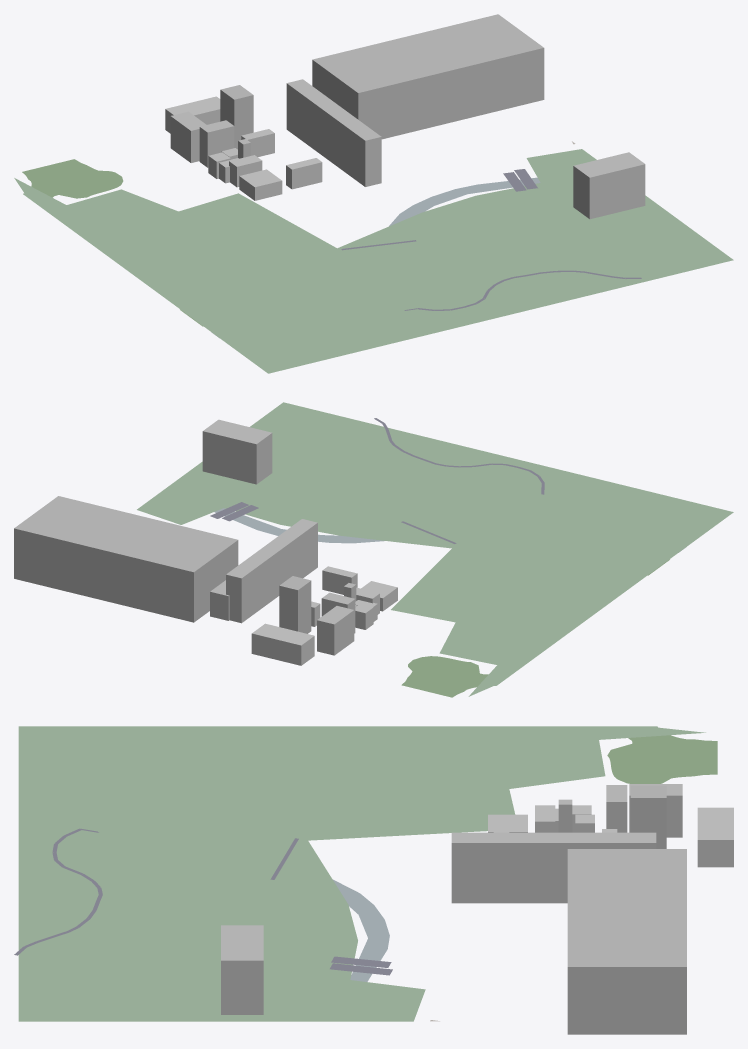
The model's file is 124_80_mid.glb.
The picture shows the model from 3 angles, top to bottom: view 1: azimuth 30°, elevation 25°; view 2: azimuth 150°, elevation 25°; view 3: azimuth 270°, elevation 25°; orthographic projection. The views are drawn at different scales.
Bounding box in the file's own units: 523 × 54.81 × 515.
